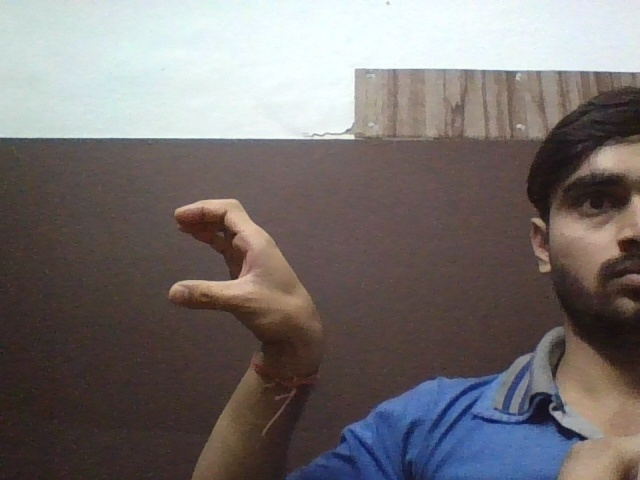C: (151, 188, 327, 357)
